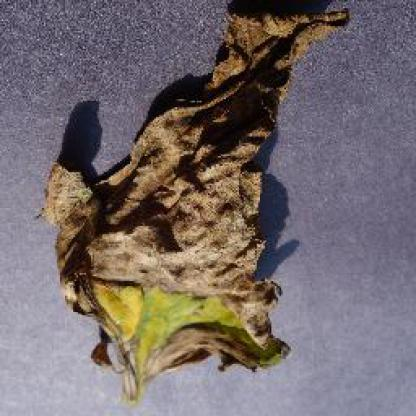bad leaf: (34, 4, 373, 388)
